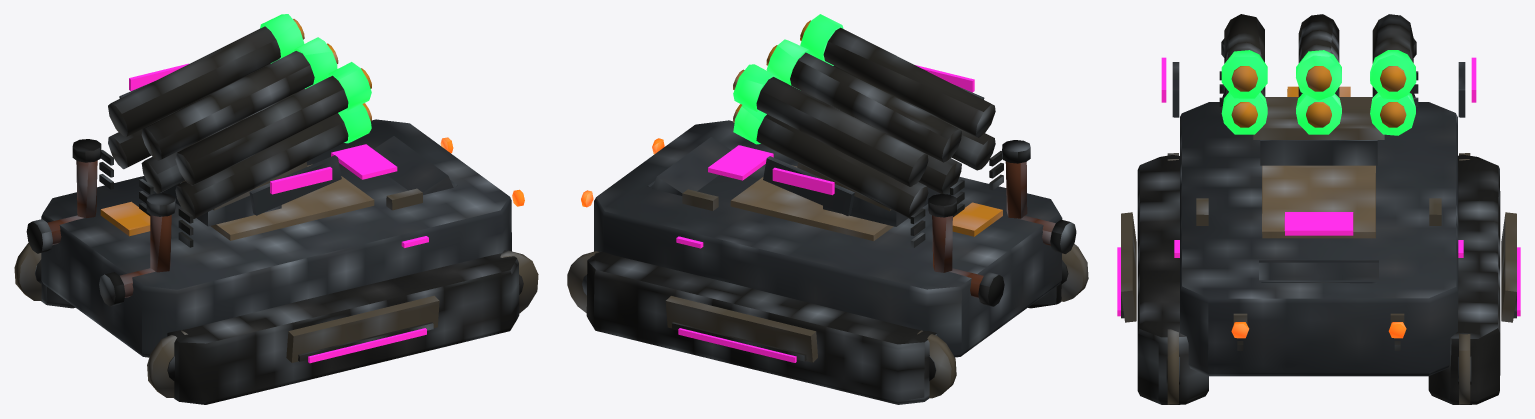
File: deviator.glb
3 views of the same model, side by side, from view 1: azimuth 30°, elevation 25°; view 2: azimuth 150°, elevation 25°; view 3: azimuth 270°, elevation 25° (orthographic). The views are drawn at different scales.
Parts seen in each view (by area): view 1: Sandwar3D; view 2: Sandwar3D; view 3: Sandwar3D.
Part boxes in pixels (x1,y1,x2,y2): Sandwar3D: (14,14,538,404); Sandwar3D: (567,14,1088,404); Sandwar3D: (1117,14,1520,404).
Size of the model in its own units: 1.98 by 1.19 by 1.52.
12 materials, 11 textured.
